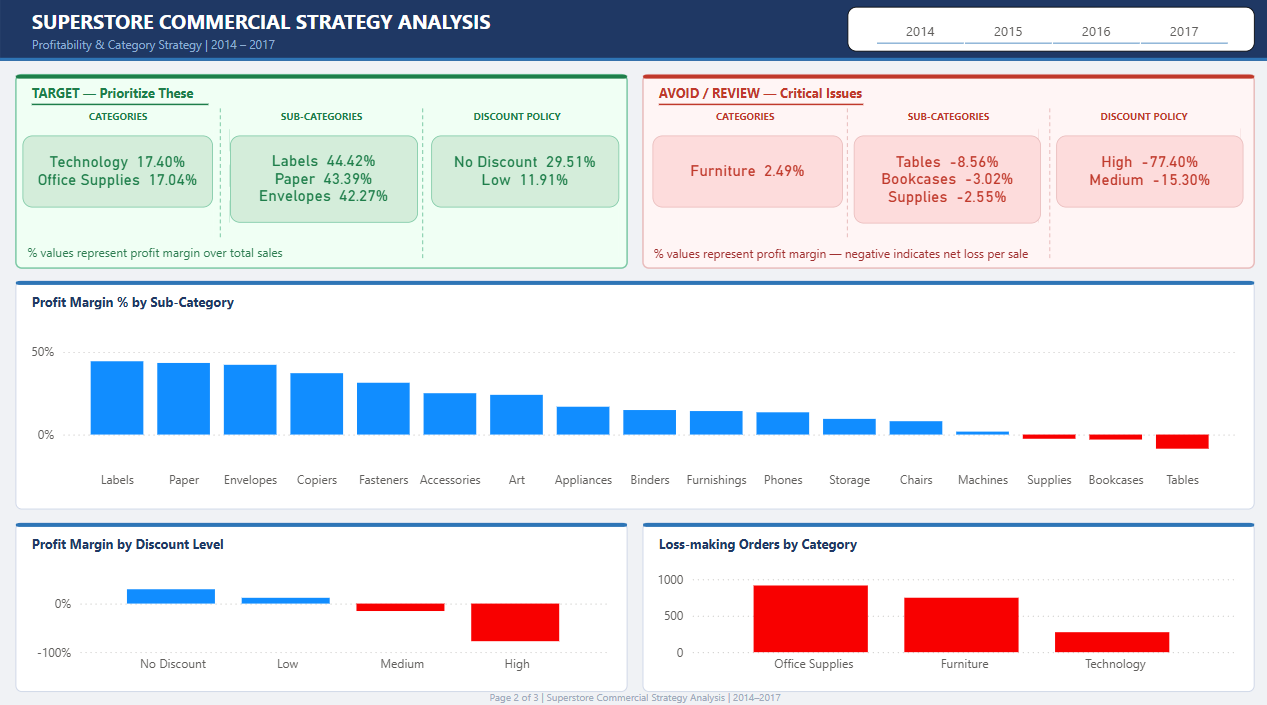

The dashboard page shown, as its layout file describes it:
{"tool":"powerbi","page":{"name":"Category Strategy","canvas":[1280,720],"ordinal":1},"visuals":[{"type":"shape","box":[656.5,555.5,359.2,23.1],"z":0},{"type":"shape","box":[1057.5,125.5,183.2,135.6],"z":1000},{"type":"shape","box":[855.6,124.1,183.2,135.6],"z":2000},{"type":"shape","box":[763.2,242.4,187.6,17.3],"z":3000},{"type":"shape","box":[652.1,124.1,184.7,134.2],"z":4000},{"type":"slicer","fields":{"Values":["Calendar.Year"]},"box":[847.5,8.8,407.5,45],"z":5000},{"type":"shape","box":[229.4,124.1,187.6,135.6],"z":6000},{"type":"shape","box":[26,124.1,187.6,135.6],"z":7000},{"type":"card","fields":{"Values":["DAX Measures.TARGET Categories Card"]},"box":[23.1,137.1,190.4,72.1],"z":8000},{"type":"shape","box":[431.4,124.1,187.6,135.6],"z":9000},{"type":"shape","box":[135.6,242.4,187.6,17.3],"z":10000},{"type":"card","fields":{"Values":["DAX Measures.TARGET SubCategories Card"]},"box":[229.4,137.4,187.7,87.1],"z":11000},{"type":"card","fields":{"Values":["DAX Measures.TARGET Discount Card"]},"box":[430.7,137.4,187.7,72.4],"z":12000},{"type":"textbox","box":[23.1,239.5,310.2,41.8],"z":13000},{"type":"textbox","box":[649.2,240.9,427.1,41.8],"z":14000},{"type":"card","fields":{"Values":["DAX Measures.AVOID Categories Card"]},"box":[652.1,137.1,190.4,72.1],"z":15000},{"type":"card","fields":{"Values":["DAX Measures.AVOID SubCategories Card"]},"box":[854.1,137.1,187.6,88],"z":16000},{"type":"card","fields":{"Values":["DAX Measures.AVOID Discount Card"]},"box":[1056.1,137.1,187.6,72.1],"z":17000},{"type":"shape","box":[23.1,311.6,359.2,23.1],"z":18000},{"type":"shape","box":[23.1,555.5,359.2,23.1],"z":19000},{"type":"columnChart","fields":{"Category":["Superstore_Data.Sub-Category"],"Y":["DAX Measures.Profit Margin %"]},"box":[26,323.2,1214.8,176],"z":20000},{"type":"columnChart","fields":{"Category":["Superstore_Data.Discount Category"],"Y":["DAX Measures.Profit Margin %"]},"box":[31.7,567,582.9,116.9],"z":21000},{"type":"columnChart","fields":{"Y":["DAX Measures.Unprofitable Orders"],"Category":["Superstore_Data.Category"]},"box":[652.1,567,588.6,116.9],"z":22000}]}

Visuals, with their boxes in screenshot pixels (x1, y1, x2, y2), scaled from the page's 1280x720 canvas onto the 1267x705 screenshot:
shape: l=650, t=544, r=1005, b=567
shape: l=1047, t=123, r=1228, b=256
shape: l=847, t=122, r=1028, b=254
shape: l=755, t=237, r=941, b=254
shape: l=645, t=122, r=828, b=253
slicer - Calendar.Year: l=839, t=9, r=1242, b=53
shape: l=227, t=122, r=413, b=254
shape: l=26, t=122, r=211, b=254
card - DAX Measures.TARGET Categories Card: l=23, t=134, r=211, b=205
shape: l=427, t=122, r=613, b=254
shape: l=134, t=237, r=320, b=254
card - DAX Measures.TARGET SubCategories Card: l=227, t=135, r=413, b=220
card - DAX Measures.TARGET Discount Card: l=426, t=135, r=612, b=205
textbox: l=23, t=235, r=330, b=275
textbox: l=643, t=236, r=1065, b=277
card - DAX Measures.AVOID Categories Card: l=645, t=134, r=834, b=205
card - DAX Measures.AVOID SubCategories Card: l=845, t=134, r=1031, b=220
card - DAX Measures.AVOID Discount Card: l=1045, t=134, r=1231, b=205
shape: l=23, t=305, r=378, b=328
shape: l=23, t=544, r=378, b=567
columnChart - Superstore_Data.Sub-Category x DAX Measures.Profit Margin %: l=26, t=316, r=1228, b=489
columnChart - Superstore_Data.Discount Category x DAX Measures.Profit Margin %: l=31, t=555, r=608, b=670
columnChart - DAX Measures.Unprofitable Orders x Superstore_Data.Category: l=645, t=555, r=1228, b=670
